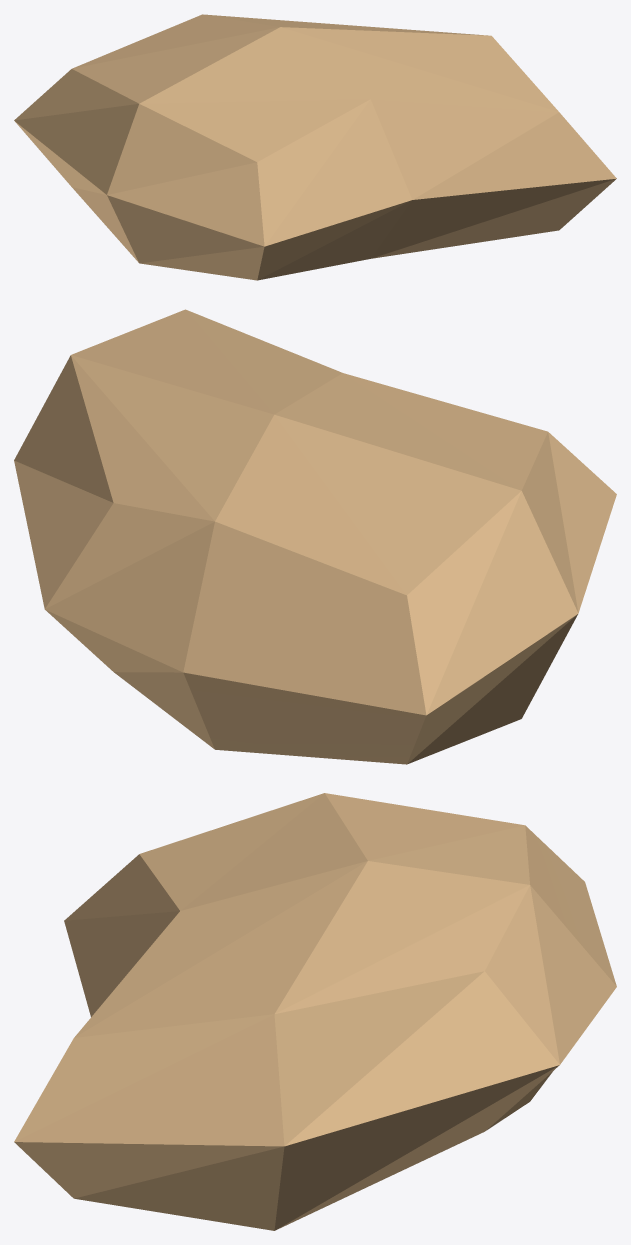
The model's file is 05 Small_stone.FBX.
3 views of the same model, one above another, from view 1: azimuth 30°, elevation 25°; view 2: azimuth 150°, elevation 25°; view 3: azimuth 270°, elevation 25° (orthographic). The views are drawn at different scales.
Parts seen in each view (by area): view 1: Stone_lit_015; view 2: Stone_lit_015; view 3: Stone_lit_015.
Part boxes in pixels (x1,y1,x2,y2): Stone_lit_015: (14,14,616,280); Stone_lit_015: (14,309,616,764); Stone_lit_015: (14,793,616,1230).
Bounding box in the file's own units: 702 × 352 × 665.
